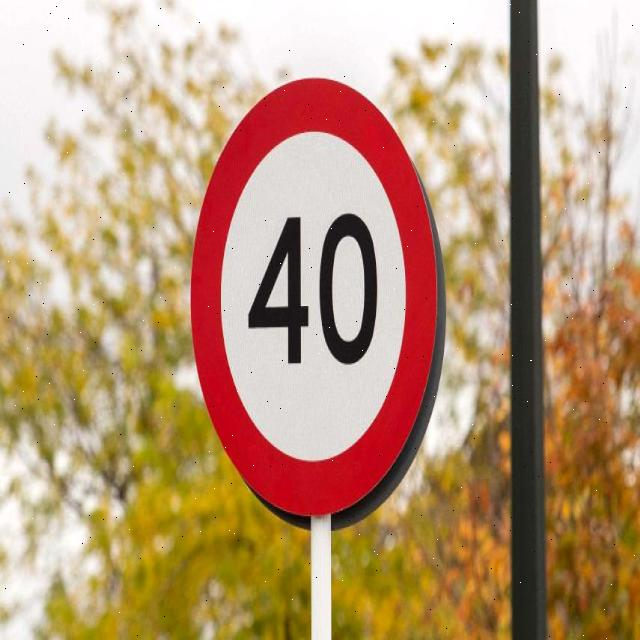speed limit 40: (188, 77, 438, 519)
